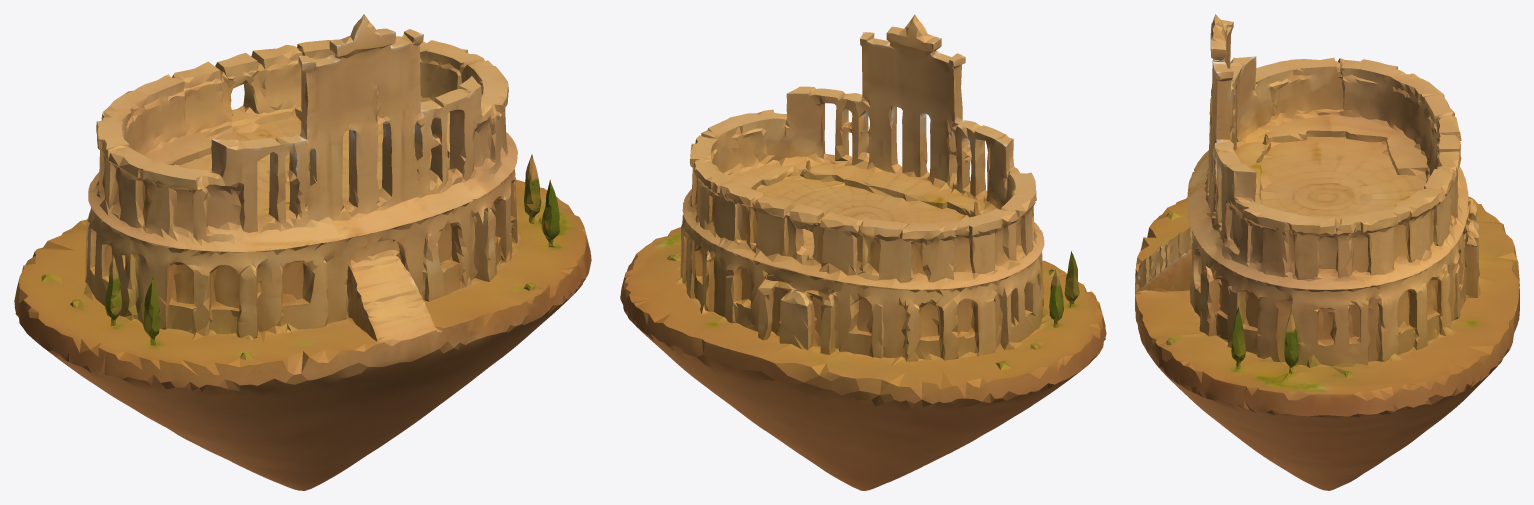
The model's file is arena.glb.
The picture shows the model from 3 angles, left to right: view 1: azimuth 30°, elevation 25°; view 2: azimuth 150°, elevation 25°; view 3: azimuth 270°, elevation 25°; orthographic projection. The views are drawn at different scales.
Parts seen in each view (by area): view 1: Arena; view 2: Arena; view 3: Arena.
Part boxes in pixels (bbox=[...]): Arena: bbox=[14, 14, 591, 490]; Arena: bbox=[620, 14, 1106, 490]; Arena: bbox=[1135, 14, 1519, 490].
Size of the model in its own units: 1.9 by 1.8 by 1.32.
1 material, 1 textured.
